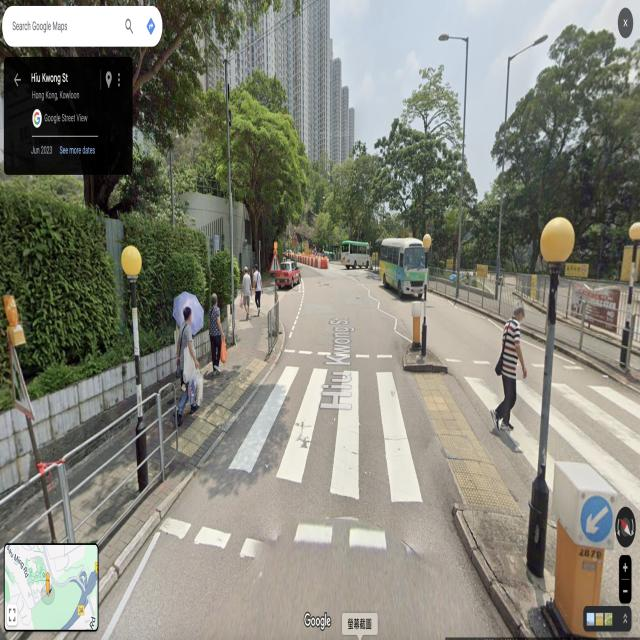Order-Sign: (585, 504, 610, 542), (322, 253, 324, 257), (315, 251, 317, 255)
Warning-Sign: (8, 332, 34, 419), (269, 250, 282, 272), (292, 229, 298, 239), (292, 240, 297, 246)
